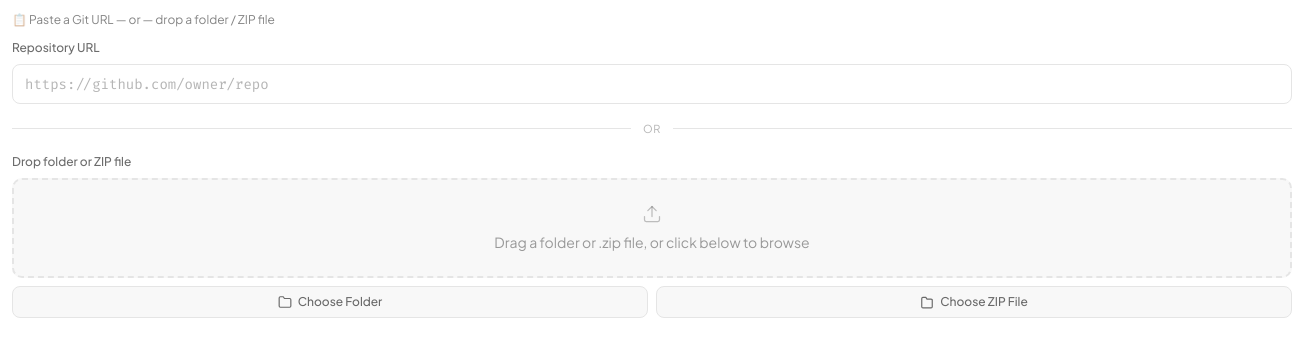
Test case: SourceInput › shows Clear selection button when something is selected (URL typed)
Step 1. Type "https://github.com/user/repo" into the field with placeholder "https://github.com/owner/repo" → (652, 84), box x1=12 y1=64 x2=1292 y2=104
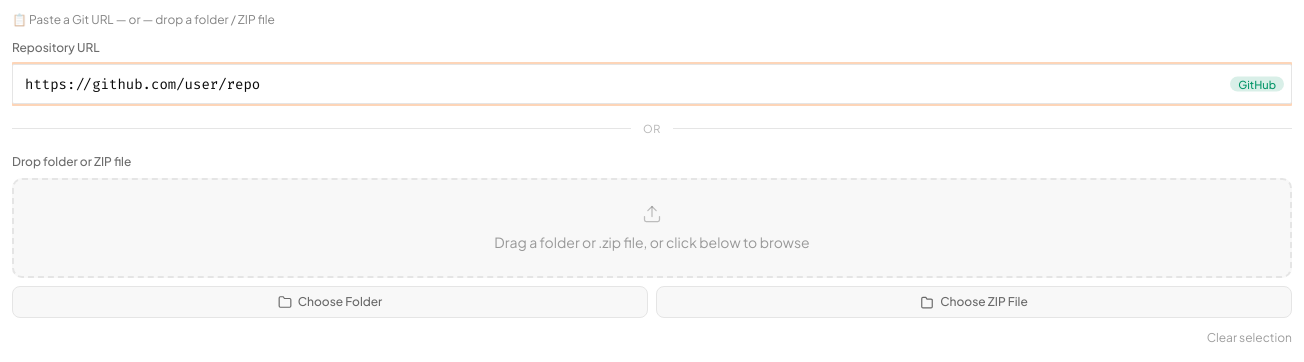
Result: the button "Clear selection" is shown at x1=1207 y1=330 x2=1292 y2=346
